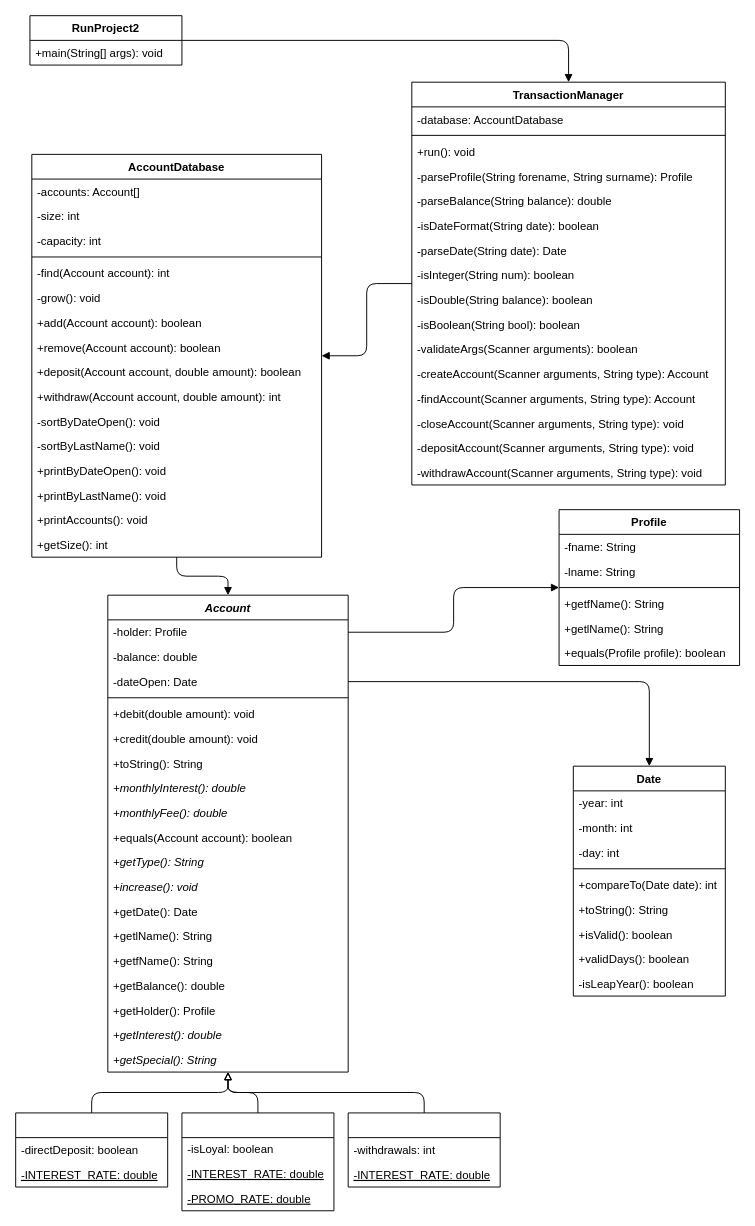
Image size: 755x1226. Some labels were removed from this diagram. Each missing label, with the box of its shape:
Checking: (15, 1112, 168, 1187)
MoneyMarket: (347, 1112, 500, 1187)
Savings: (181, 1112, 334, 1211)
